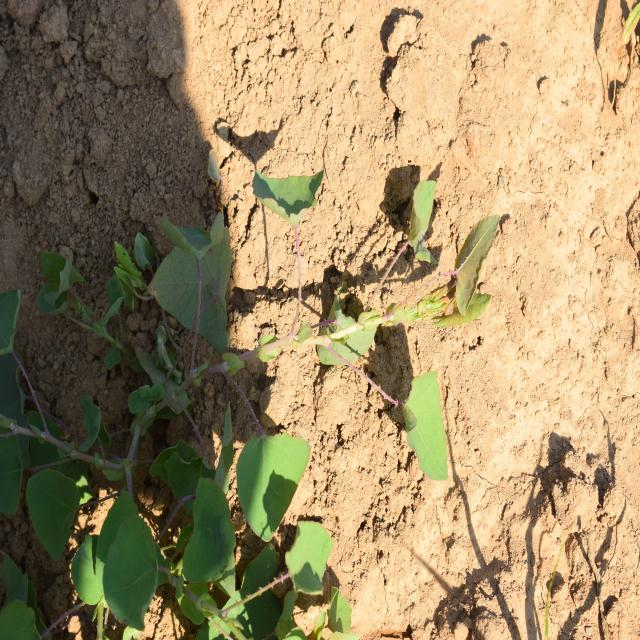Asiatic_Smartweed: (371, 175, 504, 482), (162, 396, 346, 594), (158, 140, 328, 312), (24, 460, 175, 622)
